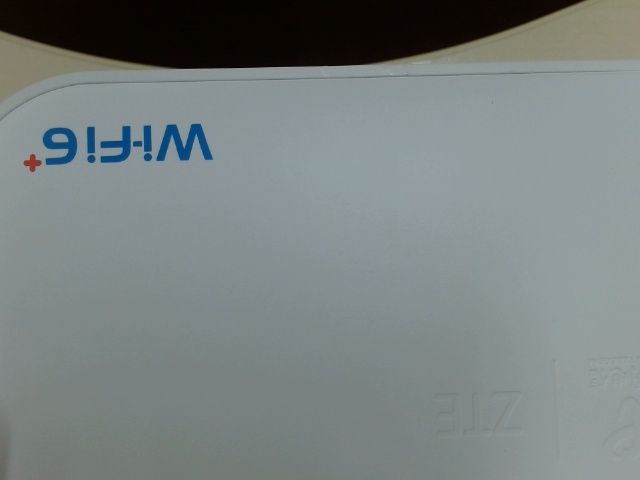AJ_ZTEWIFI6Plus: (17, 114, 236, 187)
